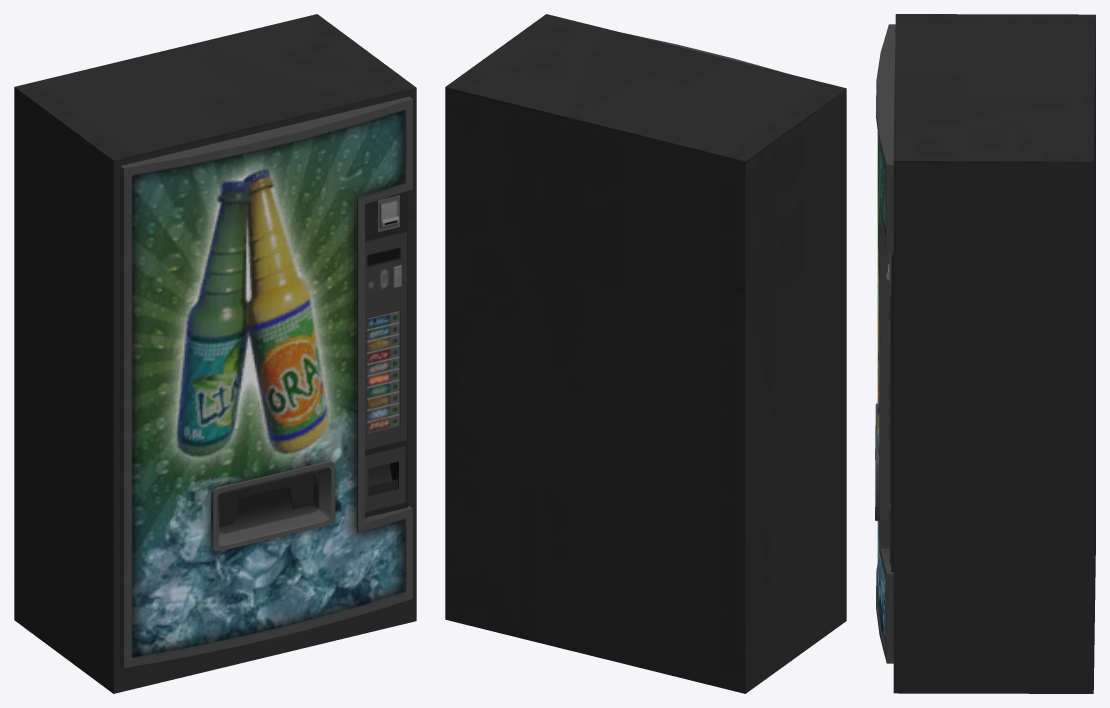
File: ItemSpot.fbx
3 renders of one model, left to right at view 1: azimuth 30°, elevation 25°; view 2: azimuth 150°, elevation 25°; view 3: azimuth 270°, elevation 25°, orthographic.
Visible parts, largest first — view 1: ItemBox_VendingMachine_01; view 2: ItemBox_VendingMachine_01; view 3: ItemBox_VendingMachine_01.
Part boxes in pixels (box(x1,y1,x2,y2)): ItemBox_VendingMachine_01: box(14, 14, 416, 693); ItemBox_VendingMachine_01: box(445, 14, 846, 693); ItemBox_VendingMachine_01: box(875, 14, 1095, 693).
Bounding box in the file's own units: 1.25 × 2.1 × 0.7895.
1 material, 1 textured.
